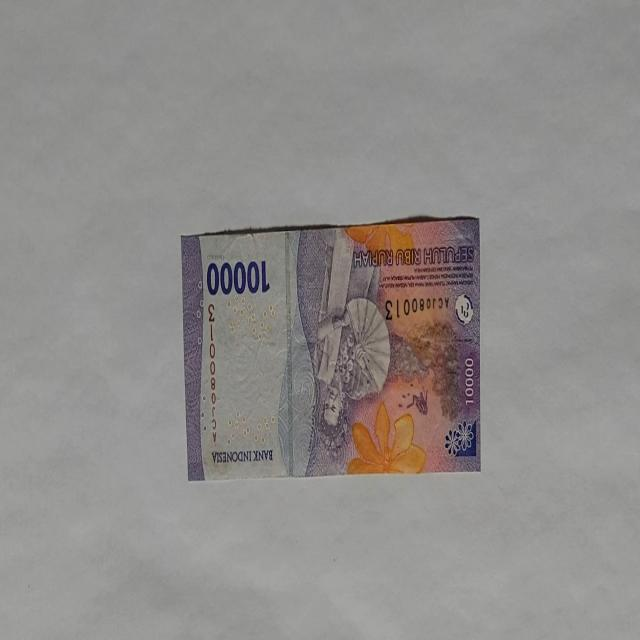sepuluh ribu rupiah: (180, 215, 482, 481), (205, 257, 271, 297)
